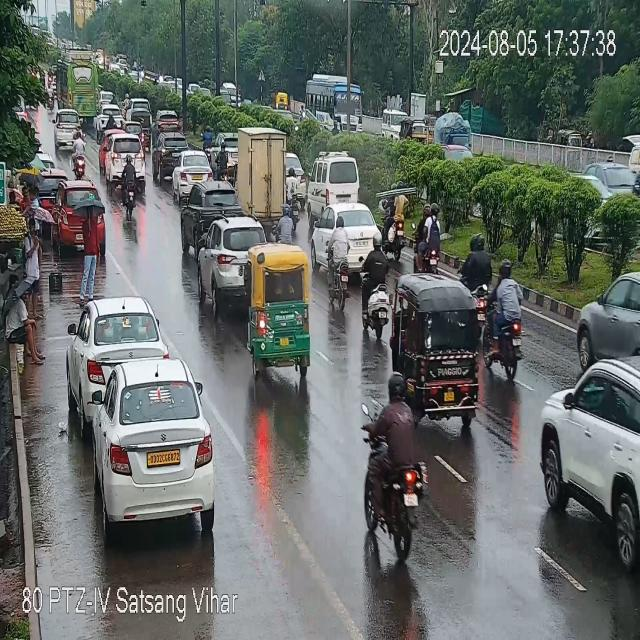2-wheelers: (367, 382, 427, 572), (483, 266, 528, 370), (357, 240, 389, 338), (414, 205, 445, 271), (381, 186, 409, 258), (327, 220, 348, 307), (117, 159, 137, 221), (467, 232, 492, 281), (285, 165, 299, 222), (72, 131, 86, 184), (277, 206, 293, 243), (218, 142, 230, 185), (202, 128, 216, 155), (108, 111, 114, 131)
auto: (391, 282, 489, 423), (249, 242, 315, 370), (317, 155, 362, 201), (401, 120, 427, 146), (277, 92, 288, 111)
bus: (52, 52, 102, 117), (308, 72, 358, 130)
car: (75, 363, 221, 526), (542, 357, 640, 556), (72, 298, 166, 400), (196, 214, 272, 309), (576, 268, 640, 378), (311, 204, 383, 262), (586, 138, 638, 207), (103, 132, 152, 178), (170, 151, 216, 187), (156, 136, 190, 176), (96, 101, 124, 137), (56, 111, 84, 146), (153, 113, 184, 134), (126, 99, 154, 120)
pedestrian: (7, 291, 45, 361), (79, 205, 108, 281), (22, 214, 42, 312), (22, 178, 45, 218)
truck: (231, 128, 296, 221)
